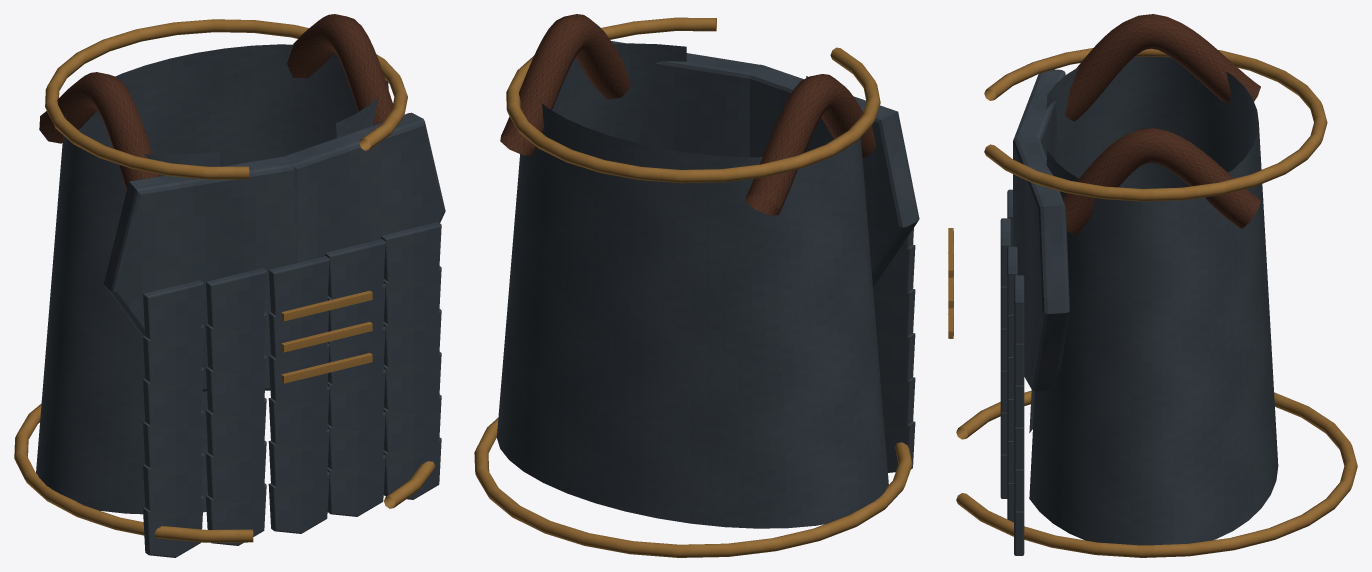
3 renders of one model, left to right at view 1: azimuth 30°, elevation 25°; view 2: azimuth 150°, elevation 25°; view 3: azimuth 270°, elevation 25°, orthographic. The views are drawn at different scales.
Visible parts, largest first — view 1: iron.0, iron.3, iron.5, brass.2, leather.6, leather.4, brass.1, iron.8, iron.7, iron.11, iron.34, iron.10 (+28 smaller); view 2: iron.0, iron.5, iron.3, brass.2, brass.1, leather.6, leather.4, iron.22, iron.17, iron.27, iron.12, iron.32; view 3: iron.0, iron.5, brass.2, brass.1, leather.4, leather.6, iron.3, iron.11, iron.9, iron.10.
Part boxes in pixels (box(x1,y1,x2,y2)): iron.0: box(36, 44, 388, 514); iron.3: box(104, 156, 296, 391); iron.5: box(279, 112, 445, 263); brass.2: box(45, 19, 407, 179); leather.6: box(287, 14, 392, 125); leather.4: box(39, 72, 159, 189); brass.1: box(14, 403, 435, 542); iron.8: box(205, 268, 266, 330); iron.7: box(143, 280, 203, 342); iron.11: box(380, 222, 441, 283); iron.34: box(268, 471, 329, 533); iron.10: box(324, 239, 385, 299); iron.0: box(496, 43, 888, 528); iron.5: box(611, 41, 764, 157); iron.3: box(748, 64, 919, 287); brass.2: box(506, 17, 880, 183); brass.1: box(474, 418, 912, 557); leather.6: box(500, 14, 631, 155); leather.4: box(746, 74, 876, 215); iron.22: box(876, 330, 915, 383); iron.17: box(873, 289, 915, 338); iron.27: box(880, 375, 915, 427); iron.12: box(873, 244, 915, 295); iron.32: box(884, 421, 915, 472); iron.0: box(1029, 56, 1278, 545); iron.5: box(1013, 135, 1069, 391); brass.2: box(984, 48, 1327, 201); brass.1: box(956, 390, 1357, 557); leather.4: box(1065, 14, 1260, 121); leather.6: box(1062, 128, 1260, 235); iron.3: box(1013, 69, 1065, 163); iron.11: box(1014, 275, 1024, 343); iron.9: box(1000, 218, 1010, 286); iron.10: box(1007, 246, 1017, 315).
Size of the model in its own units: 0.4957 by 0.5551 by 0.4863.
Materials: 3 (3 with a texture image).
